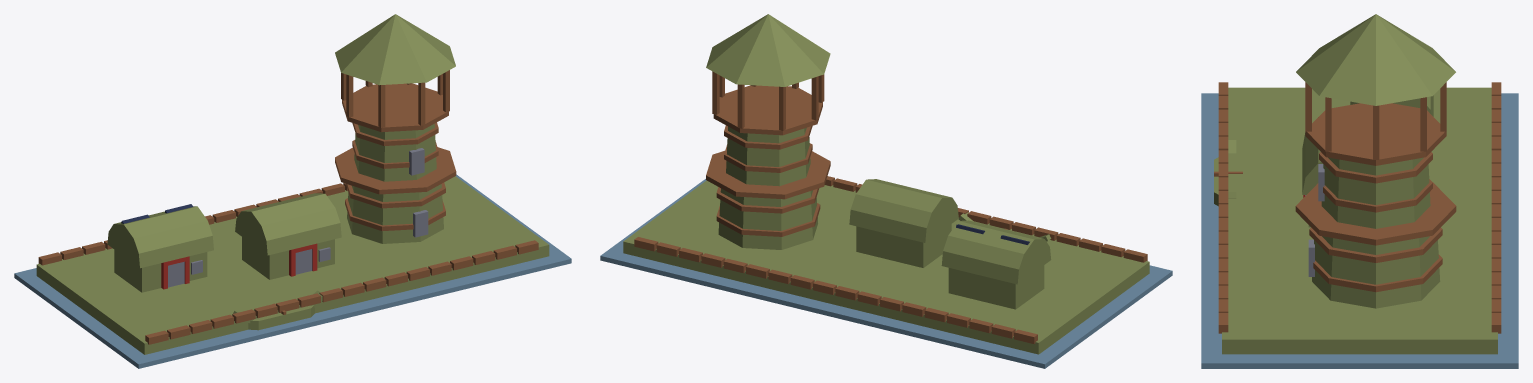
The model's file is house-2x1-2f-totora-a-solar.glb.
3 views of the same model, side by side, from view 1: azimuth 30°, elevation 25°; view 2: azimuth 150°, elevation 25°; view 3: azimuth 270°, elevation 25° (orthographic). The views are drawn at different scales.
Parts seen in each view (by area): view 1: house-2x1-2f-totora-a-solar; view 2: house-2x1-2f-totora-a-solar; view 3: house-2x1-2f-totora-a-solar.
Boxes of the visible parts, <box> form: house-2x1-2f-totora-a-solar: <box>14,14,571,368</box>; house-2x1-2f-totora-a-solar: <box>600,14,1172,368</box>; house-2x1-2f-totora-a-solar: <box>1201,14,1518,368</box>.
Size of the model in its own units: 1.99 by 0.99 by 0.99.
1 material, 1 textured.
